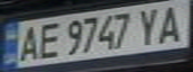4: (97, 11, 118, 52)
7: (112, 9, 136, 48), (78, 15, 100, 54)
9: (60, 16, 84, 56)
A: (151, 2, 190, 44), (12, 23, 42, 62)
E: (33, 20, 63, 61)
Y: (133, 4, 166, 46)
